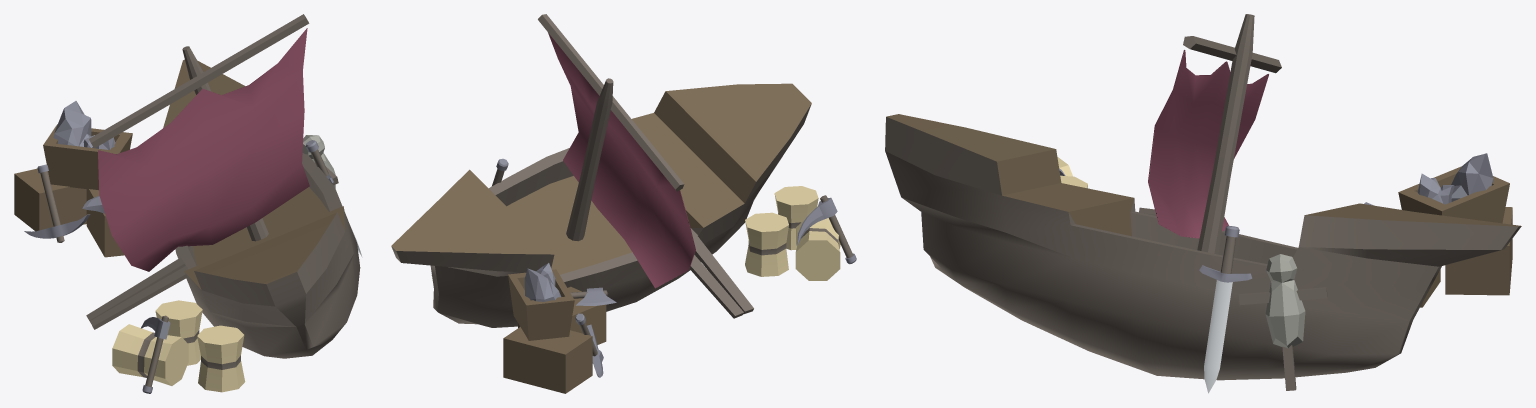
File: MESH_Ship.fbx
3 renders of one model, left to right at view 1: azimuth 30°, elevation 25°; view 2: azimuth 150°, elevation 25°; view 3: azimuth 270°, elevation 25°, orthographic. The views are drawn at different scales.
Visible parts, largest first — view 1: MESH_Ship; view 2: MESH_Ship; view 3: MESH_Ship.
Boxes of the visible parts, box(x1,y1,x2,y2) form: MESH_Ship: box(14, 14, 362, 393); MESH_Ship: box(391, 14, 856, 393); MESH_Ship: box(885, 14, 1521, 393).
Bounding box in the file's own units: 426 × 370 × 603.
